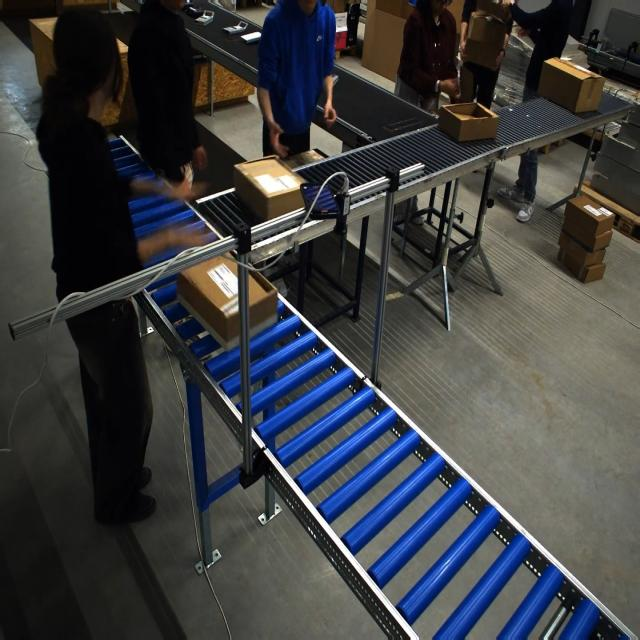box: (177, 252, 276, 348), (232, 155, 305, 223), (538, 57, 605, 114), (438, 102, 498, 144)
product: (222, 21, 248, 35), (193, 11, 215, 26), (184, 5, 204, 19), (240, 31, 261, 43)
